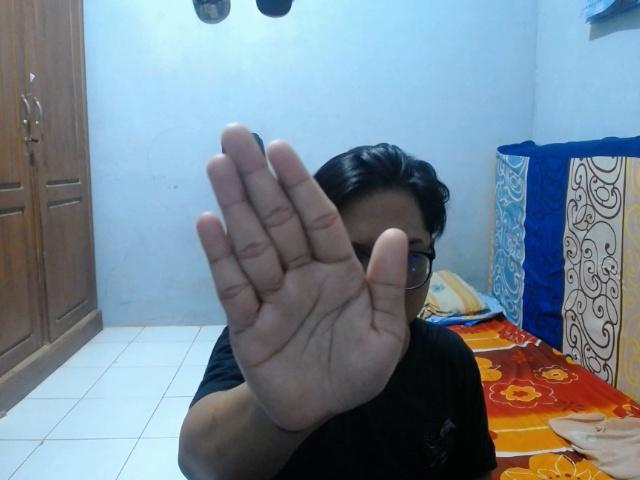Release: (190, 114, 417, 438)
